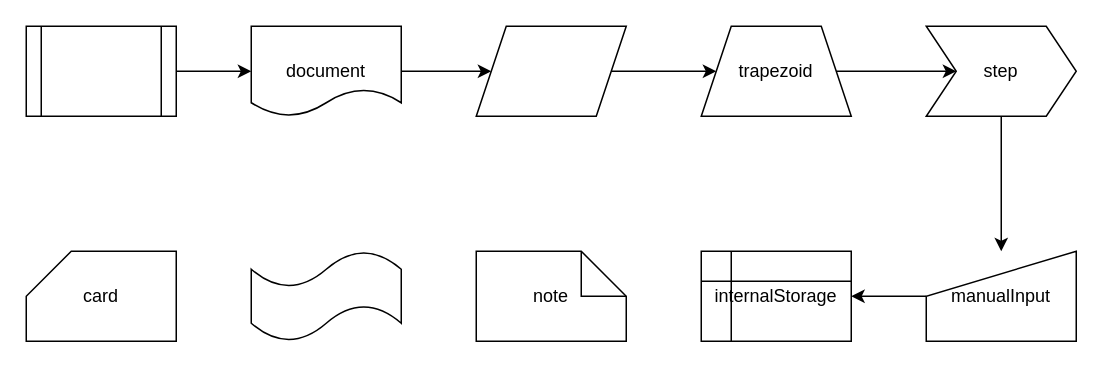
Image size: 1103x368. Some labels were removed from this diagram. Here are the shapes that lost their labels. From the top down, the centre of each, then its label:
At point 100,70: "process".
At point 550,70: "parallelogram".
At point 325,295: "tape".
